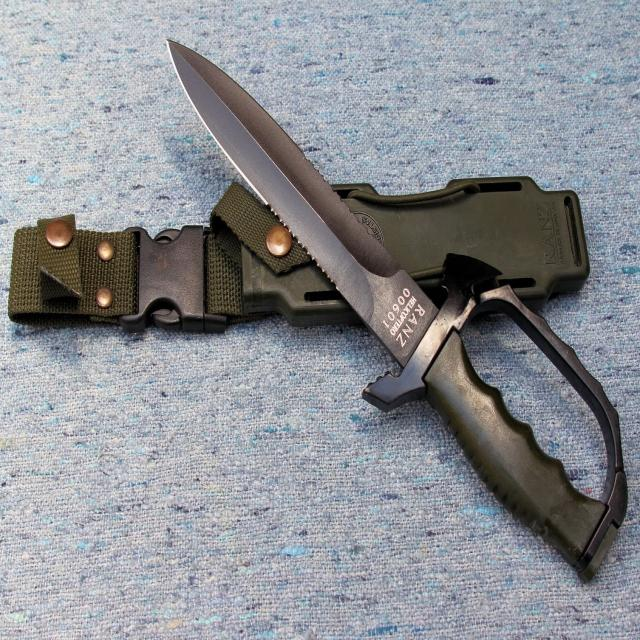knife: (160, 27, 624, 586)
